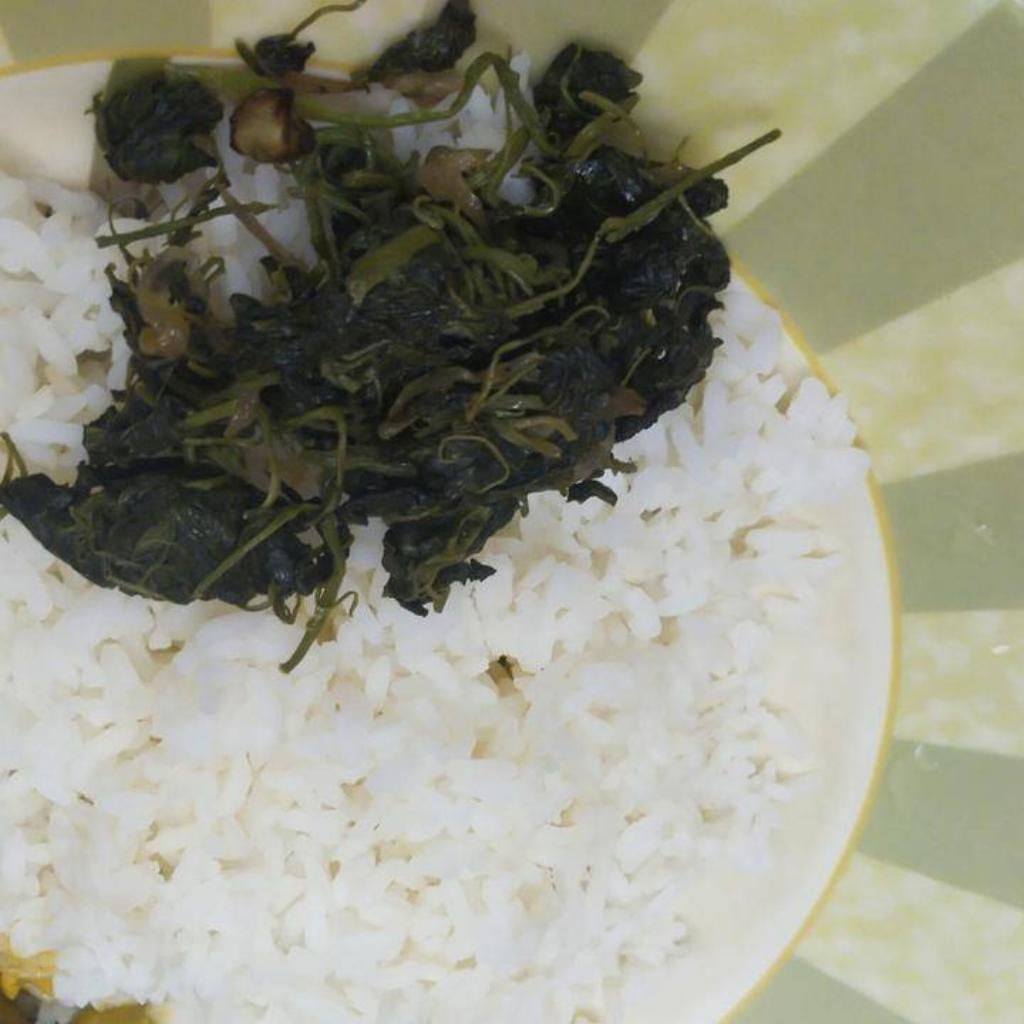rice: (0, 274, 890, 1023), (0, 172, 127, 476)
shak: (0, 0, 778, 673)
